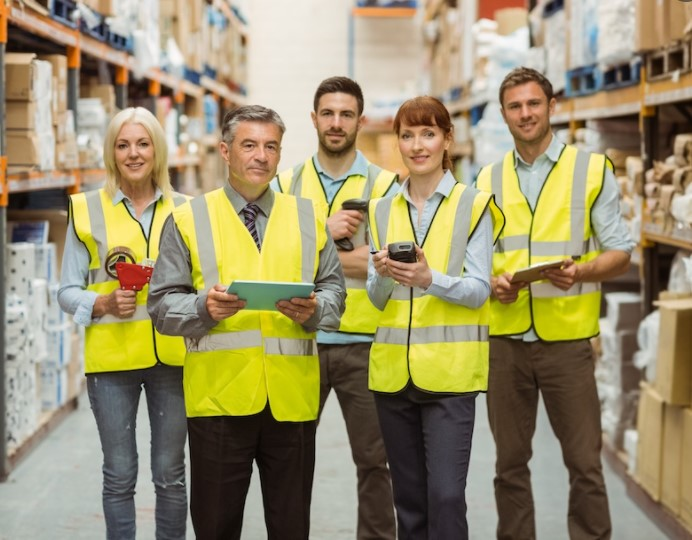worker: (179, 112, 318, 425), (368, 109, 492, 392), (482, 69, 607, 338), (71, 113, 188, 367)
